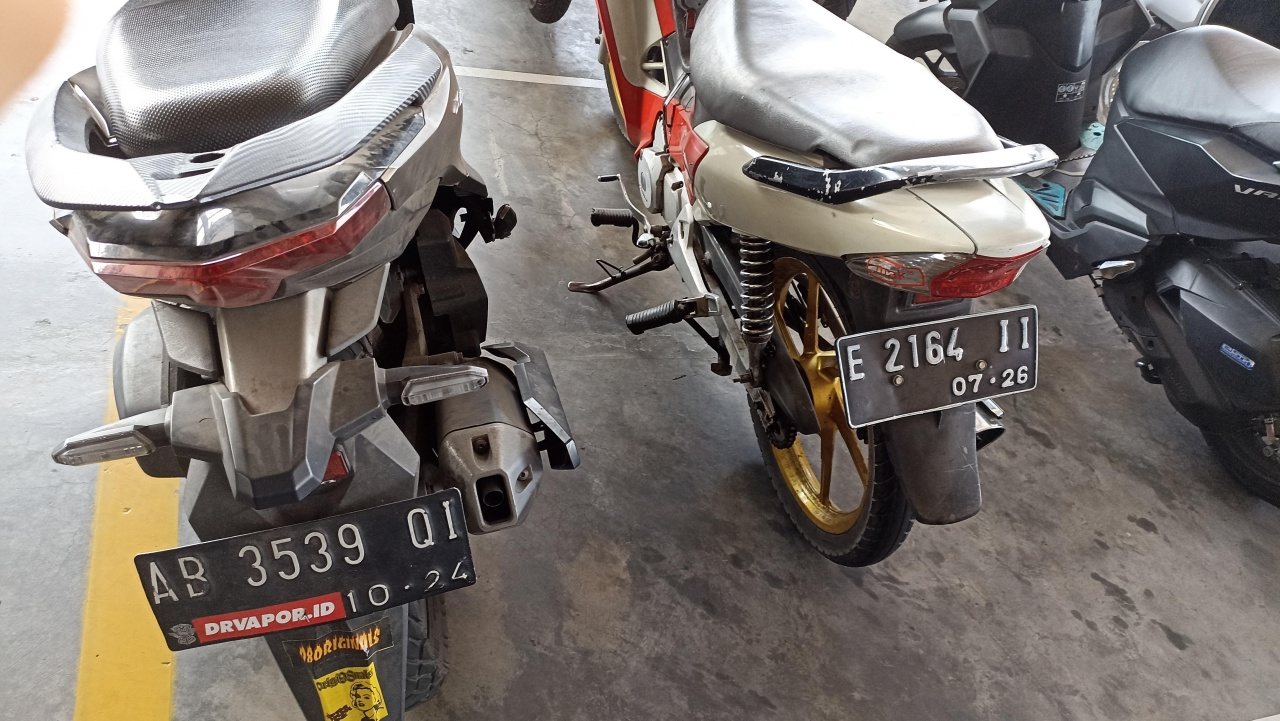plate: (135, 488, 477, 654), (837, 305, 1038, 429)
